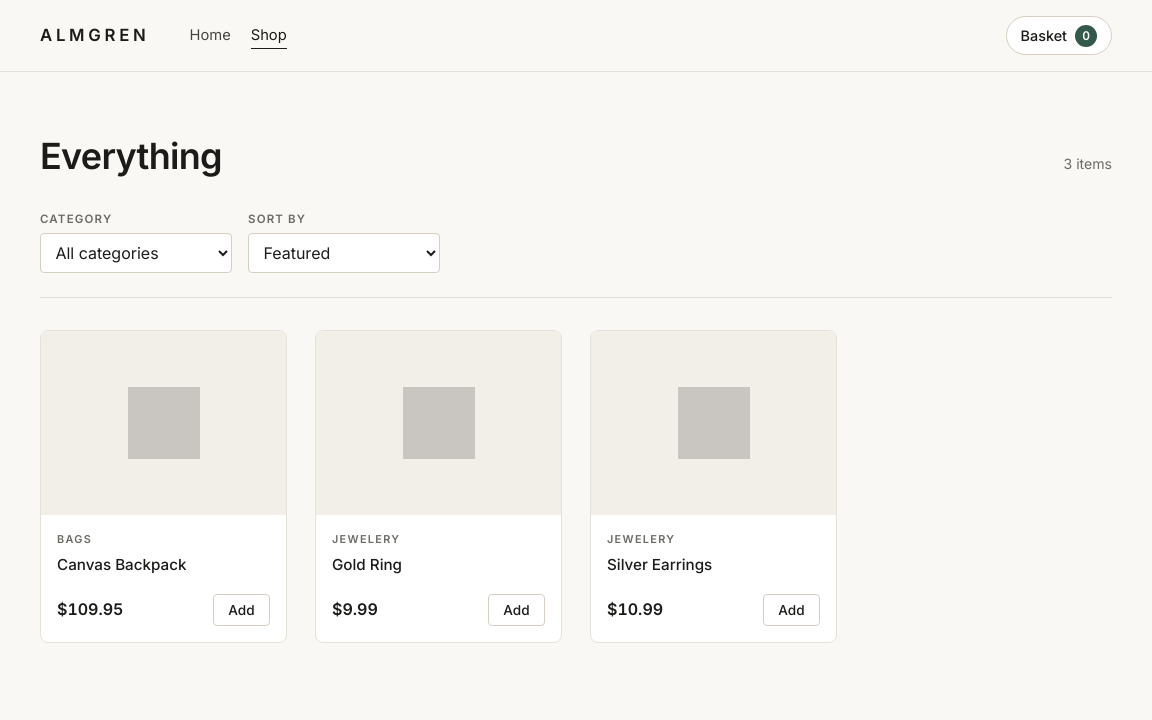
Test case: the shop › filters by category
Select "jewelery" in the dropdown labelled "Category" at coordinates (136, 253), box [40,233,232,273]
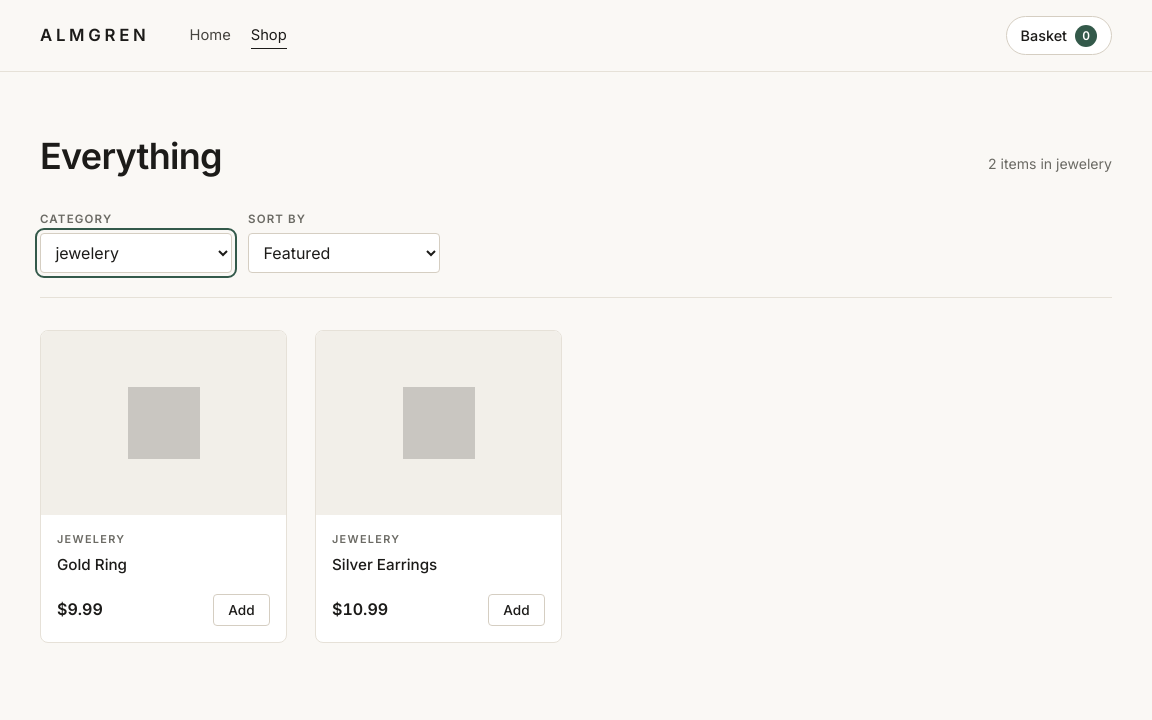
Expected: the link "Gold Ring" is shown, [57,555,127,574]
Expected: the link "Canvas Backpack" is gone
Expected: the text "2 items in jewelery" is shown, [988,153,1112,176]
